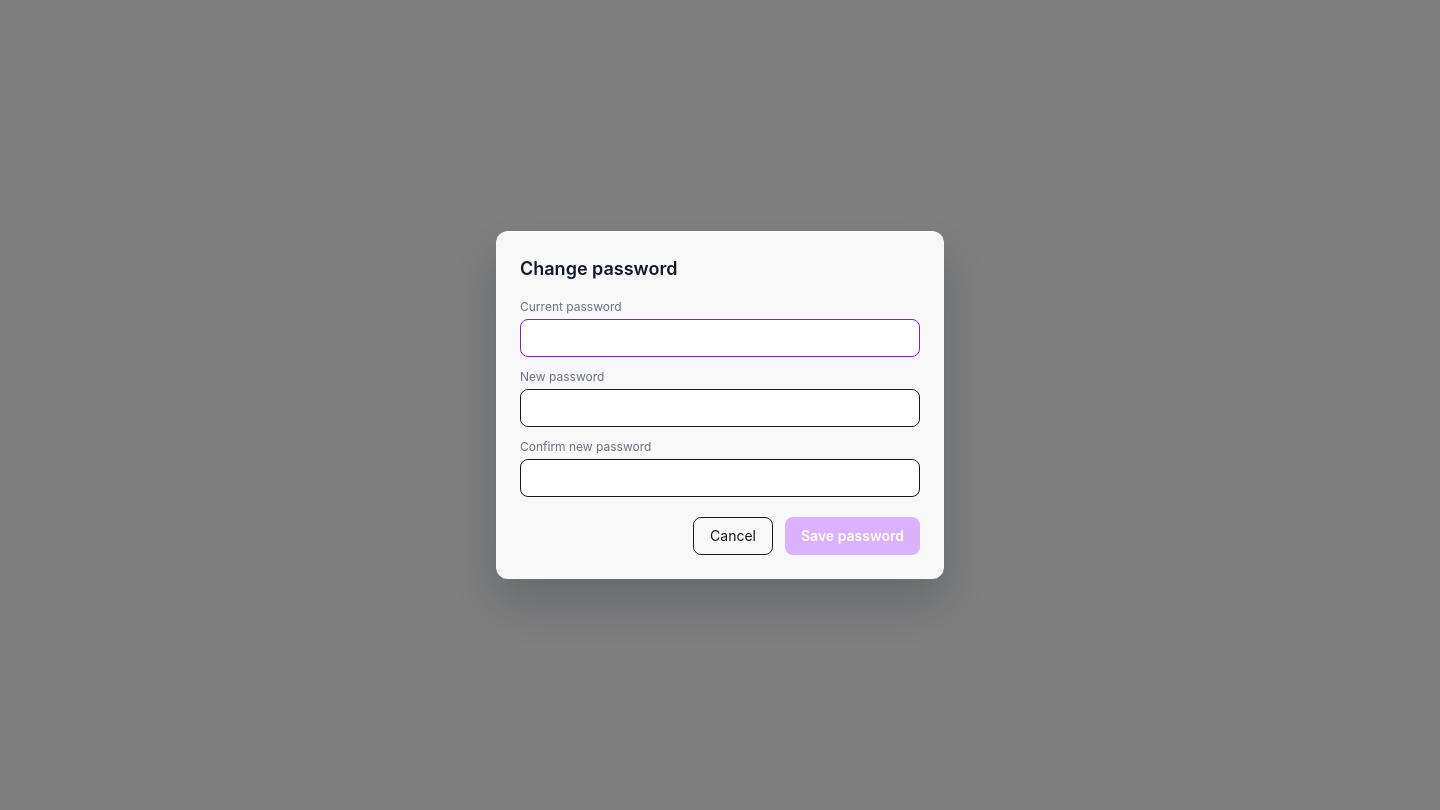
Scenario: ChangePasswordModal › handles JSON parse failure gracefully
Step 1. Type "current123" into the password field labelled "Current password" → x=720, y=338, box [520, 319, 920, 357]
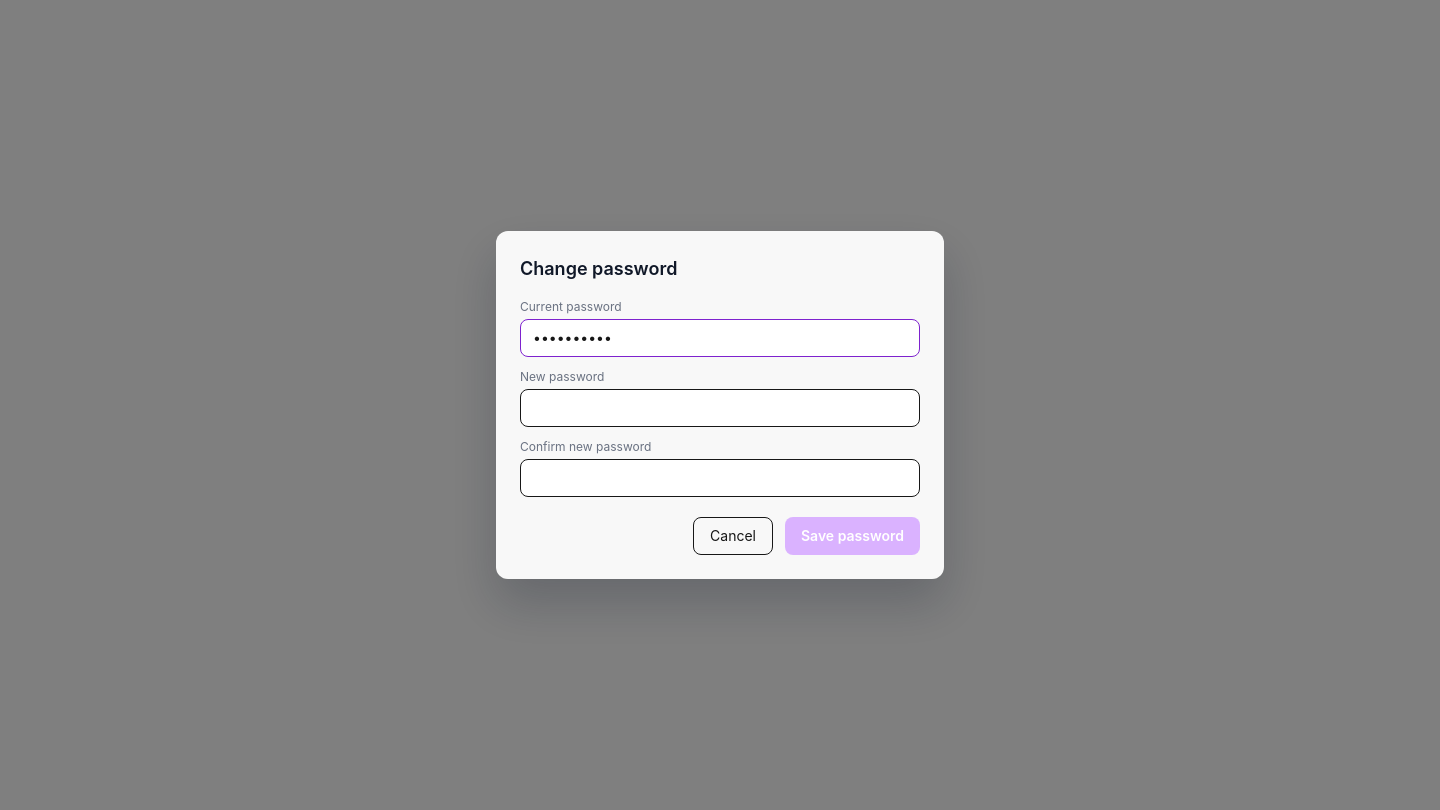
Step 2. Type "newpassword" into the password field labelled "New password" → x=720, y=408, box [520, 389, 920, 427]
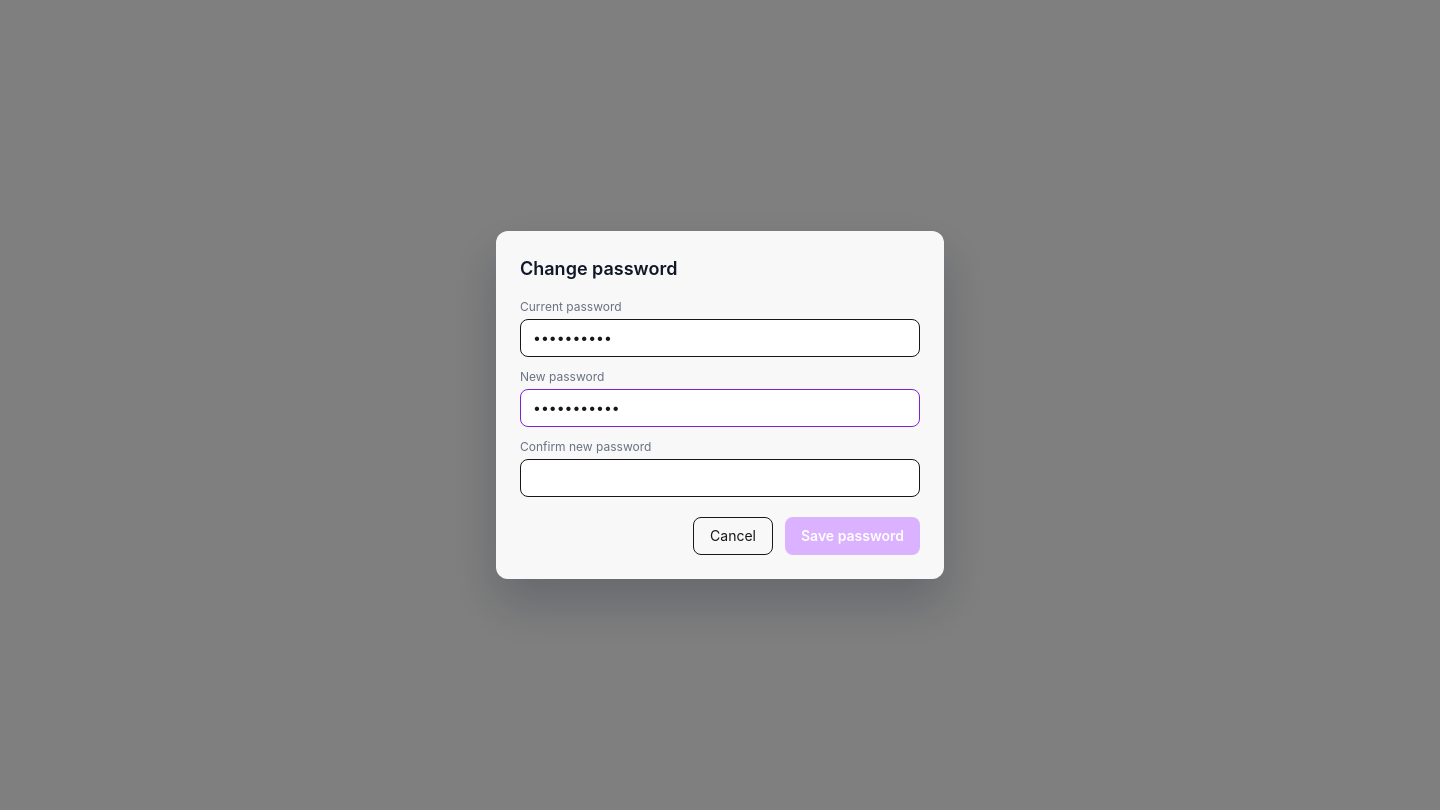
Step 3. Type "newpassword" into the password field labelled "Confirm new password" → x=720, y=478, box [520, 459, 920, 497]
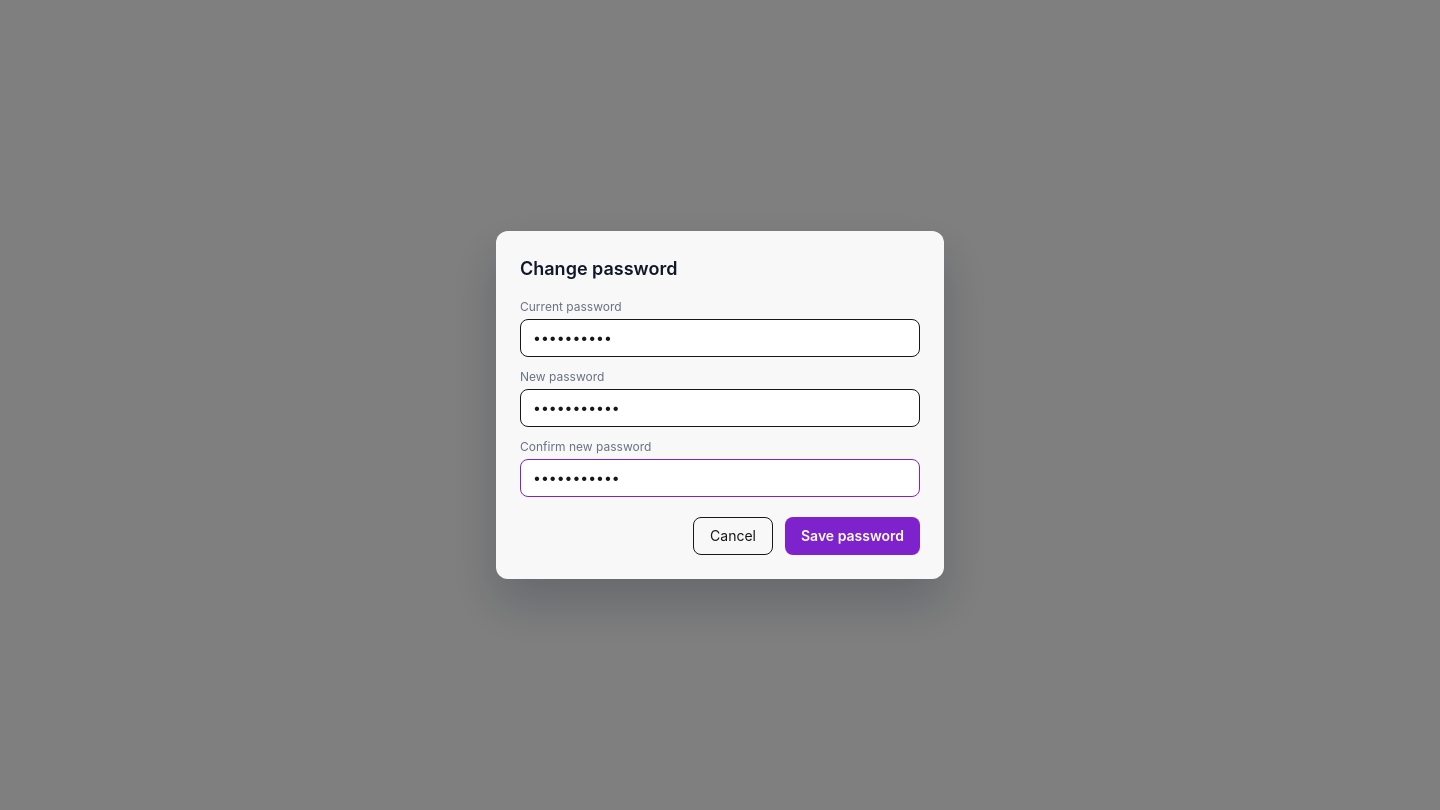
Step 4. Click the button "Save password" → x=852, y=536, box [785, 517, 920, 555]
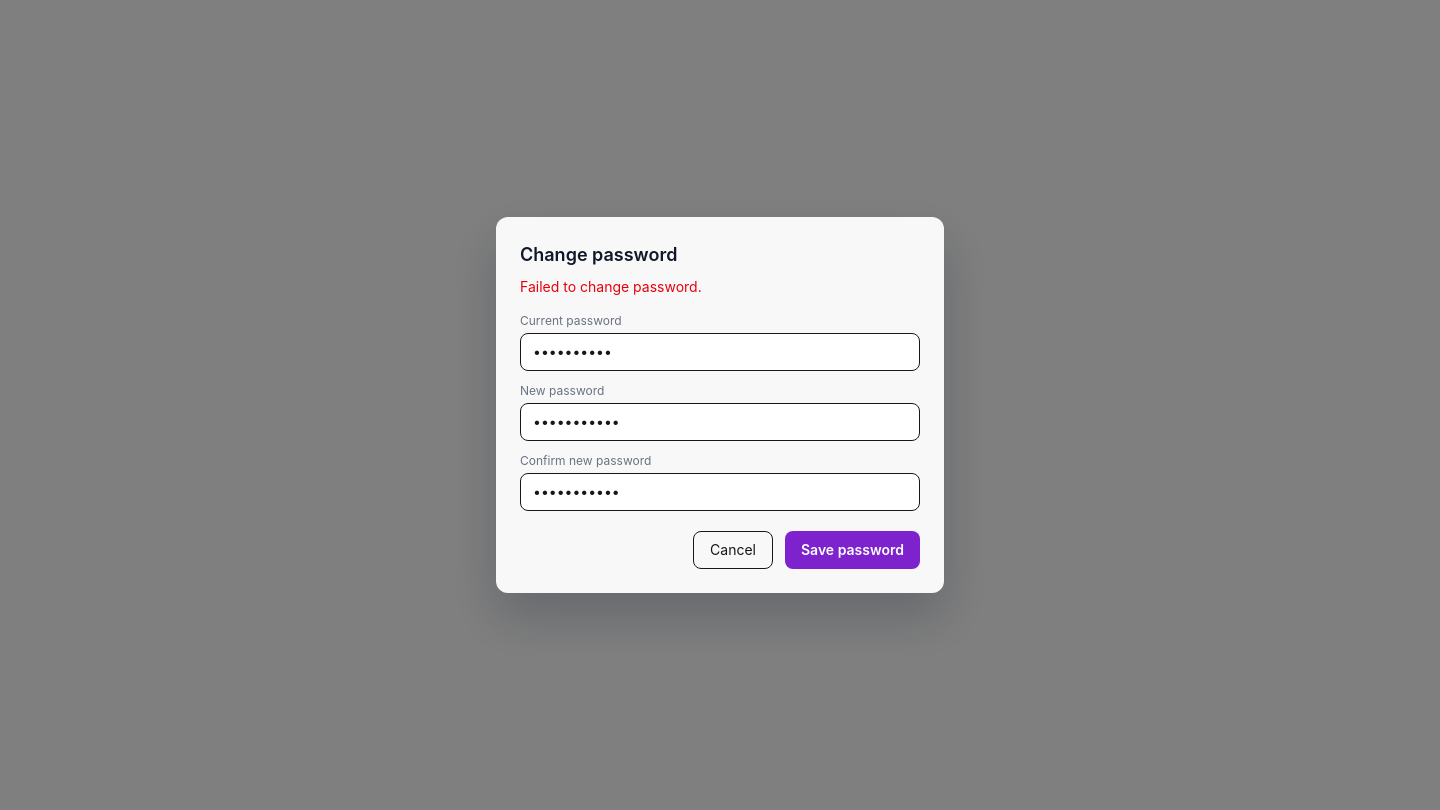
Now the message reads "Failed to change password.", box [520, 278, 702, 295]
